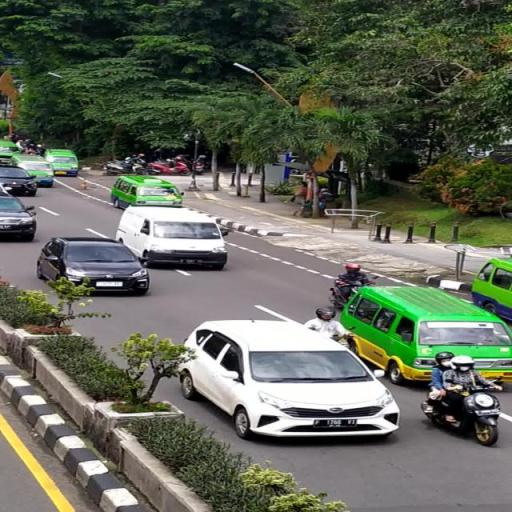Helmet: (451, 356, 474, 371), (435, 352, 454, 364), (316, 308, 335, 319), (345, 263, 360, 271), (138, 154, 146, 158)
Motor: (422, 386, 500, 446), (330, 276, 376, 308), (148, 158, 191, 175), (104, 158, 135, 175), (331, 333, 354, 350), (193, 156, 207, 174)
